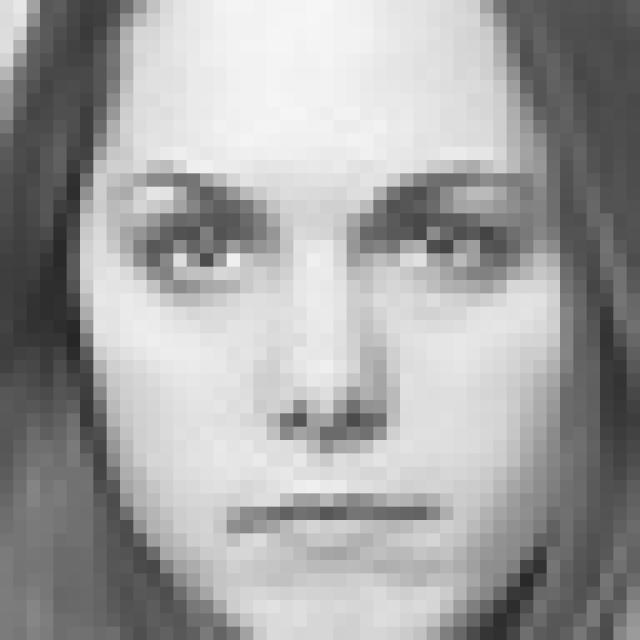neutral: (102, 153, 539, 570)
